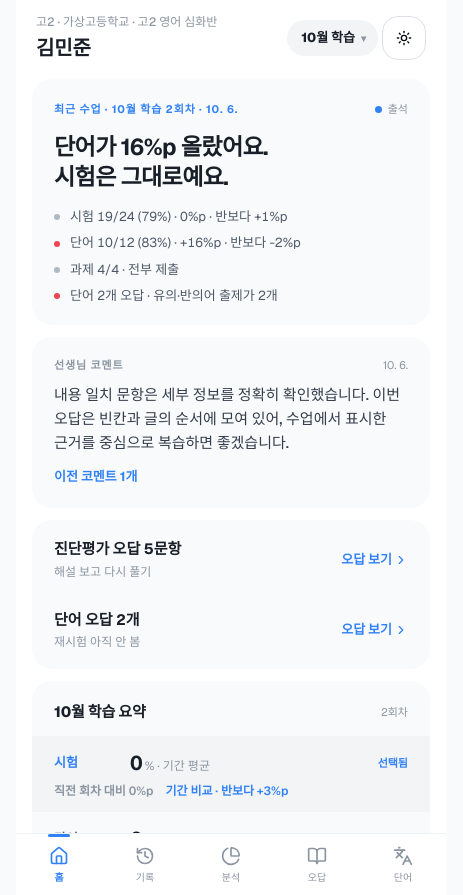
Scenario: 공유 리포트 실제 화면 재사용 › 동일한 셸에서 다섯 실제 탭을 탐색한다
Check: the text "최근 수업 · 10월 학습 2회차 · 10. 6." is shown, box [54,101,238,118]
Click the button "기록" at (145, 864), box [102,834,188,894]
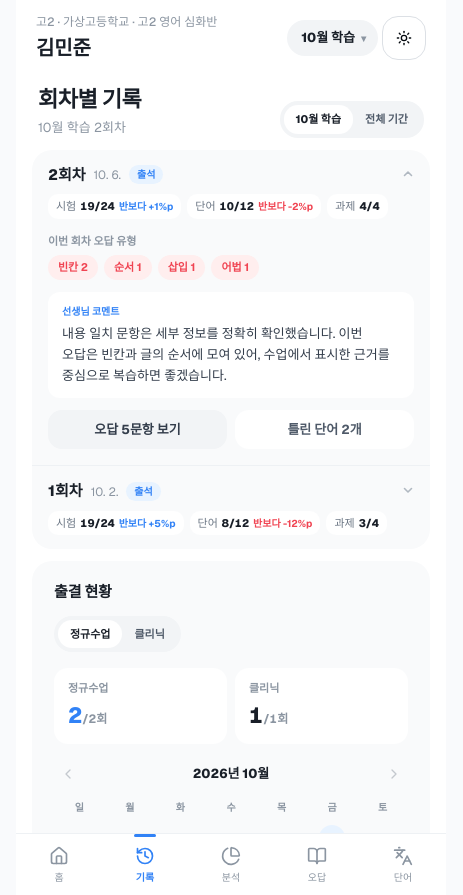
Check: the text "10월 학습 2회차" is shown, box [38,119,126,136]
Check: the heading "회차별 기록" is shown, box [38,83,141,116]
Click the button "분석" at (231, 864), box [188,834,274,894]
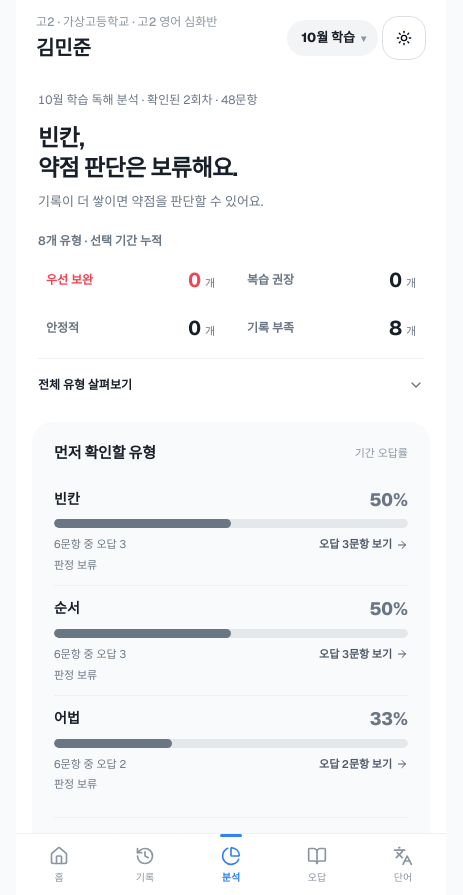
Check: the element named "먼저 살펴볼 내용" shows "확인된 2회차 · 48문항", box [38,92,263,210]
Check: the button with aria-label "기록 부족 8개 유형 보기" is shown, box [239,306,424,350]
Click the button "오답" at (317, 864), box [274,834,360,894]
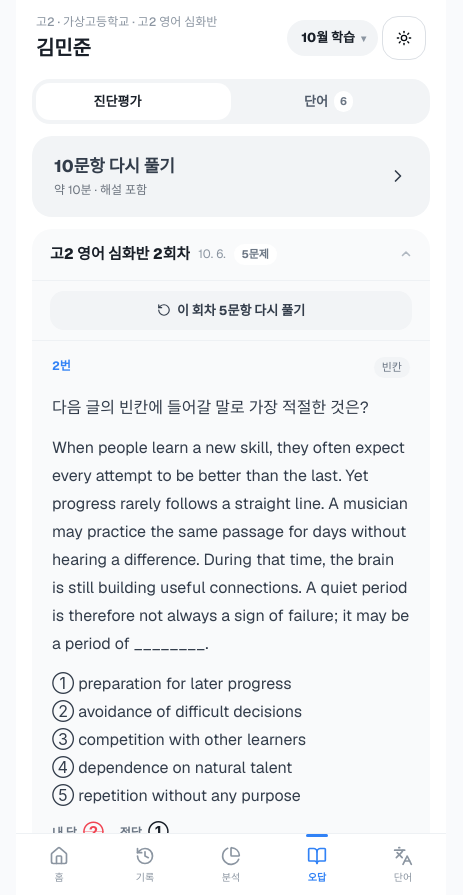
Check: the button "진단평가 10" is shown, box [36,83,231,120]
Check: the button "10문항 다시 풀기 약 10분 · 해설 포함" is shown, box [32,136,430,217]
Click the button "단어" at (403, 864), box [360,834,446,894]
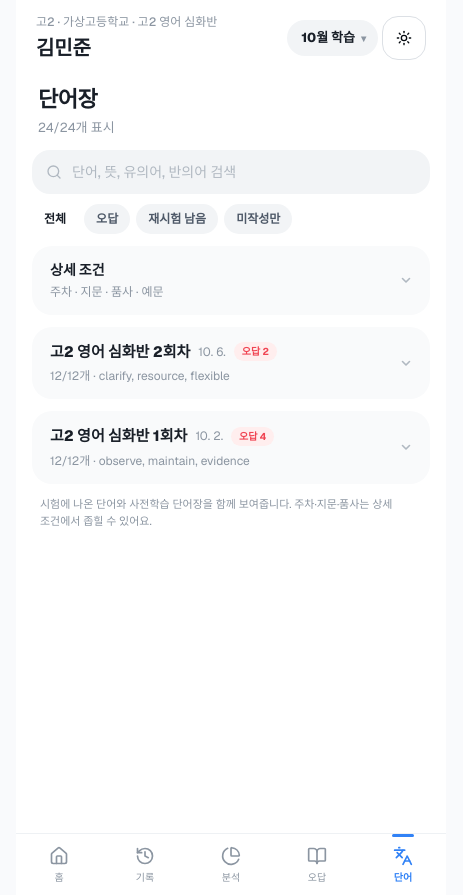
Check: the heading "단어장" is shown, box [38,85,97,113]
Click the button "홈" at (59, 864), box [16,834,102,894]
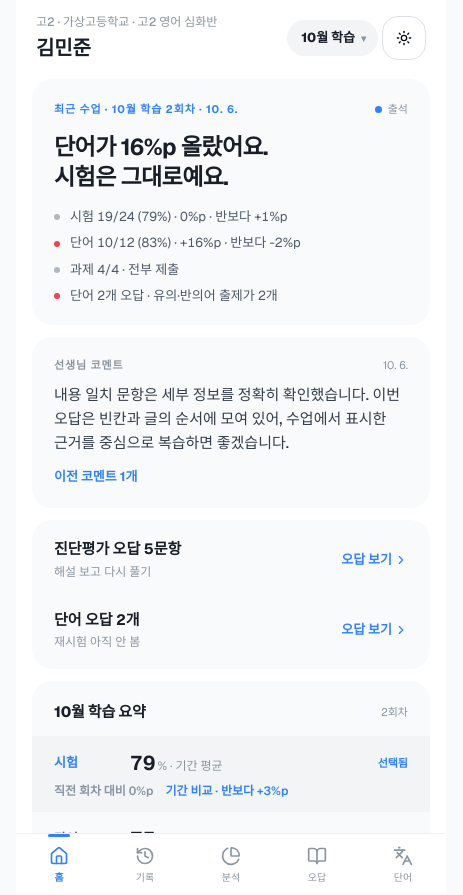
Check: the text "최근 수업 · 10월 학습 2회차 · 10. 6." is shown, box [54,101,238,118]
